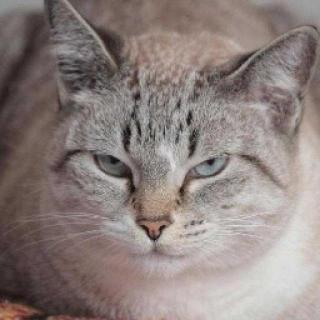cat: (42, 4, 314, 278)
nose: (130, 185, 187, 252)
